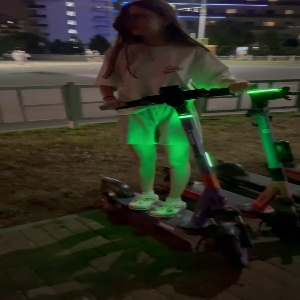human on a scooter: (96, 1, 257, 269)
